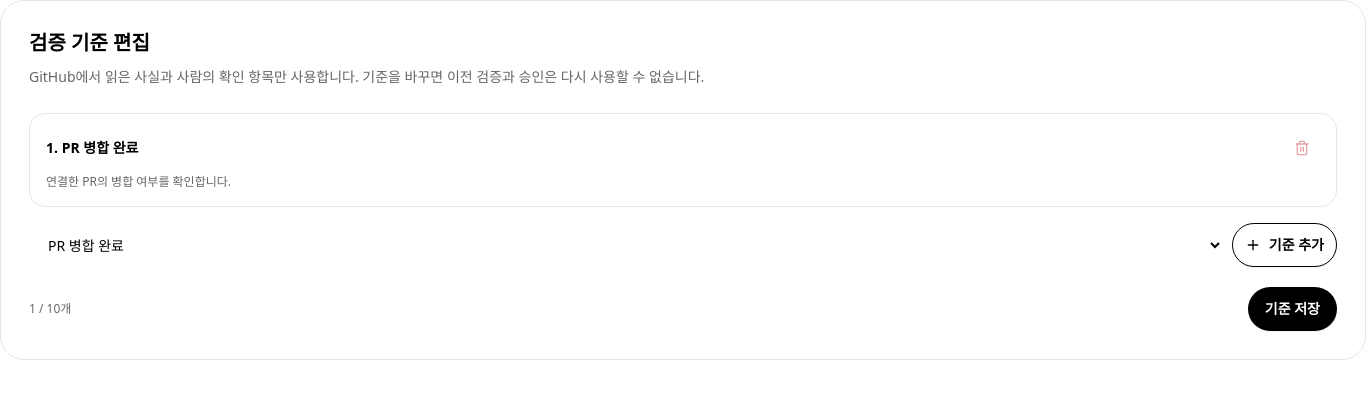
Test: ProofCriteriaEditor › surfaces save errors and keeps the draft available for correction
Click the button "기준 저장". click: (1292, 309)
box: x1=1248 y1=287 x2=1337 y2=331
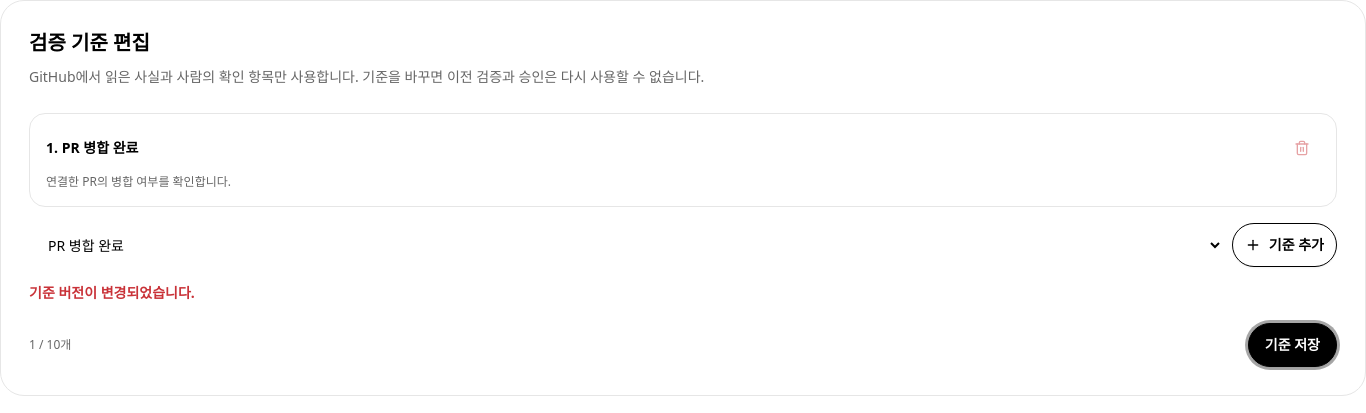
Check: the text "1 / 10개" is shown, box x1=29 y1=337 x2=71 y2=353
Check: the message reads "기준 버전이 변경되었습니다.", box x1=29 y1=283 x2=195 y2=302
